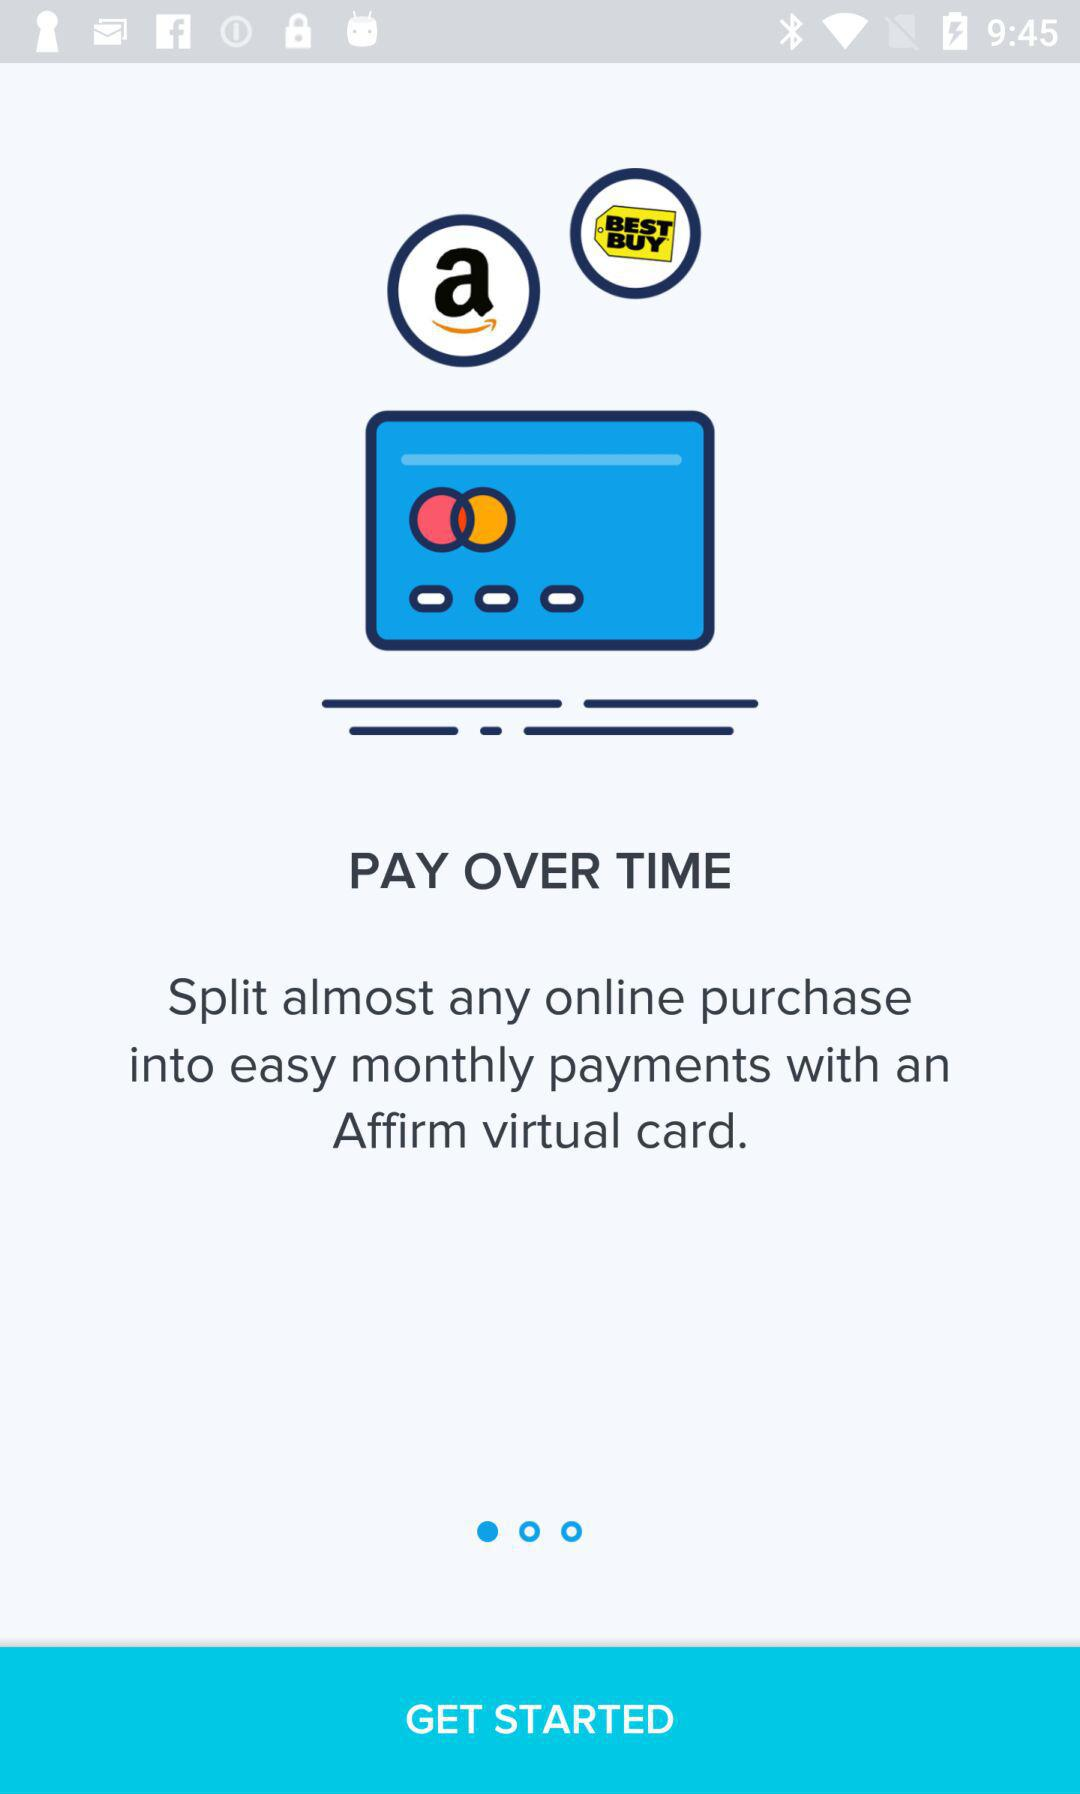Image: (316, 165, 761, 738)
PageIndicator: (477, 1518, 584, 1544)
Text: (127, 975, 951, 1153), (350, 850, 734, 892)
TextButton: (1, 1647, 1080, 1794)
UpperTaskBar: (1, 1, 1080, 64)
